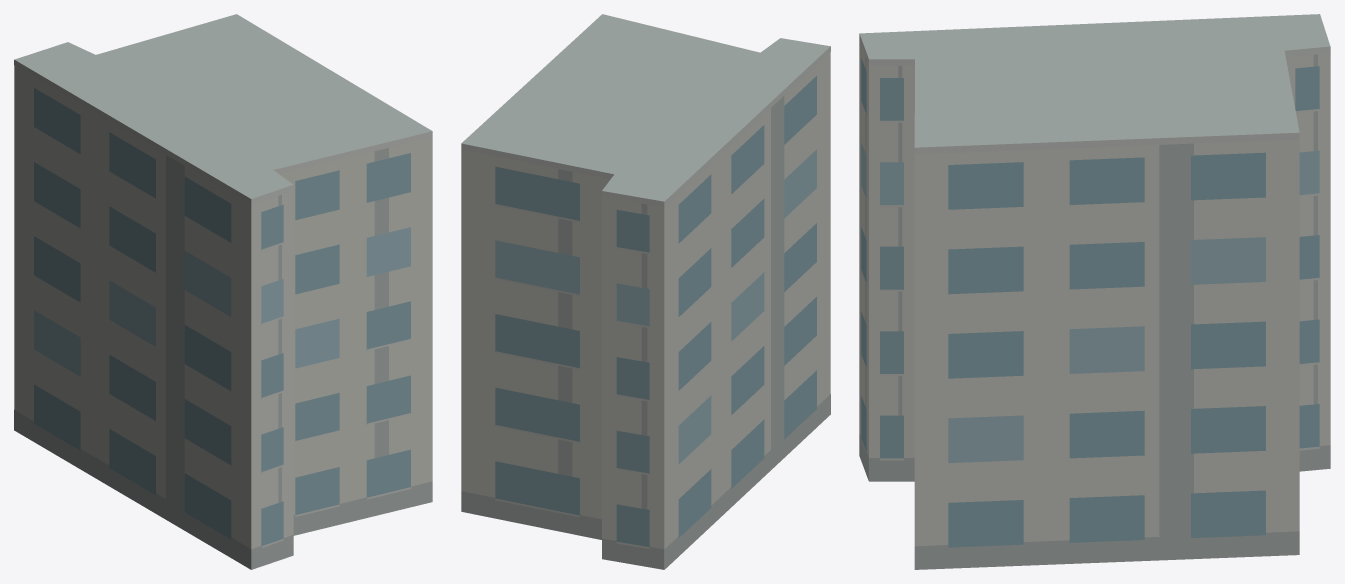
File: survey-upis-32578673.glb
The picture shows the model from 3 angles, left to right: view 1: azimuth 30°, elevation 25°; view 2: azimuth 150°, elevation 25°; view 3: azimuth 270°, elevation 25°; orthographic projection. The views are drawn at different scales.
Parts seen in each view (by area): view 1: survey-upis-32578673.tmp; view 2: survey-upis-32578673.tmp; view 3: survey-upis-32578673.tmp.
Boxes of the visible parts, x1,y1,x2,y2 form: survey-upis-32578673.tmp: (14, 14, 432, 569); survey-upis-32578673.tmp: (461, 14, 830, 569); survey-upis-32578673.tmp: (859, 14, 1330, 569).
Bounding box in the file's own units: 10.36 × 15.25 × 15.43.
